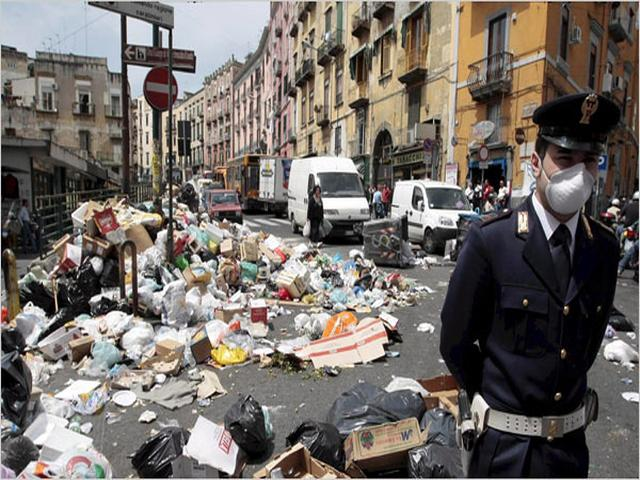garbage: (185, 248, 361, 356), (22, 268, 202, 352)
